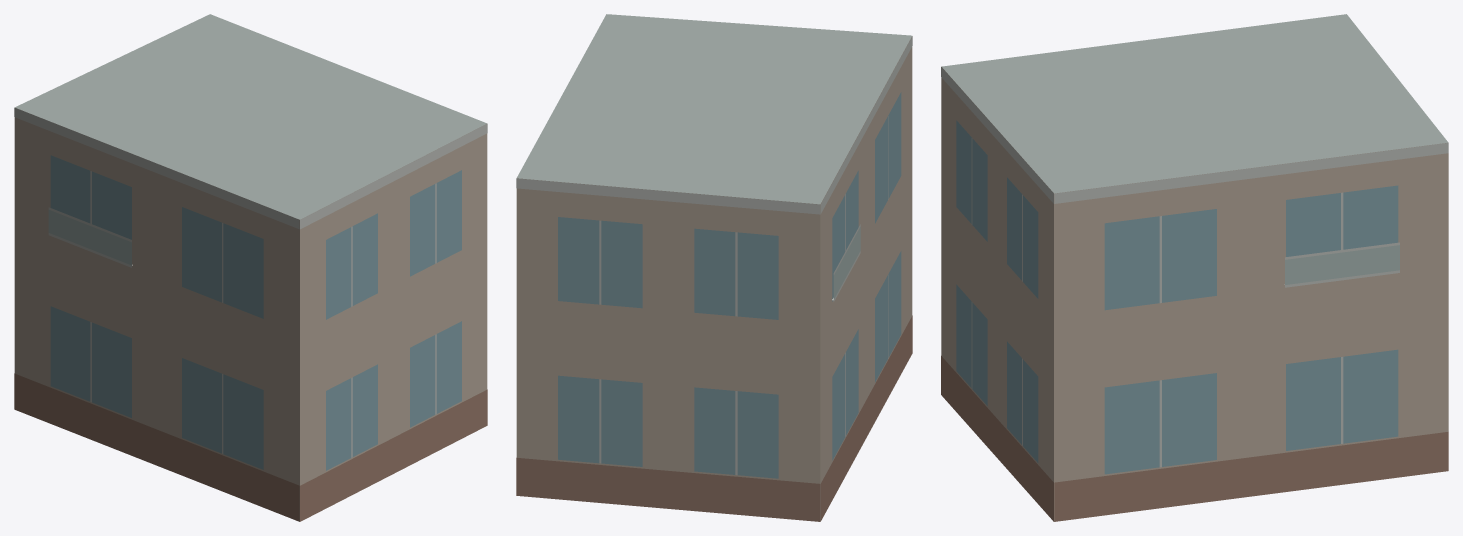
The model's file is survey-upis-32609219.glb.
The picture shows the model from 3 angles, left to right: view 1: azimuth 30°, elevation 25°; view 2: azimuth 150°, elevation 25°; view 3: azimuth 270°, elevation 25°; orthographic projection. The views are drawn at different scales.
Visible parts, largest first — view 1: survey-upis-32609219.tmp; view 2: survey-upis-32609219.tmp; view 3: survey-upis-32609219.tmp.
Part boxes in pixels (<box>): survey-upis-32609219.tmp: <box>14,14,487,521</box>; survey-upis-32609219.tmp: <box>516,14,912,521</box>; survey-upis-32609219.tmp: <box>941,14,1448,521</box>.
Bounding box in the file's own units: 8.92 × 7.6 × 10.65.
